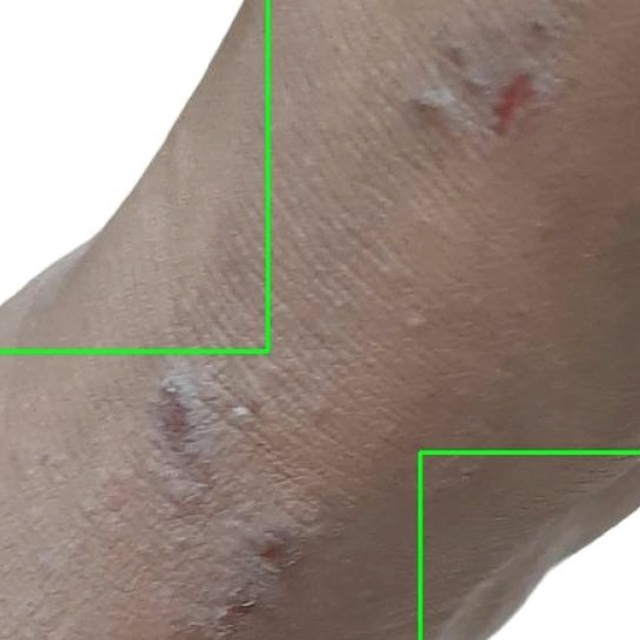Atopic Dermatitis: (0, 0, 267, 351), (420, 453, 639, 639)
